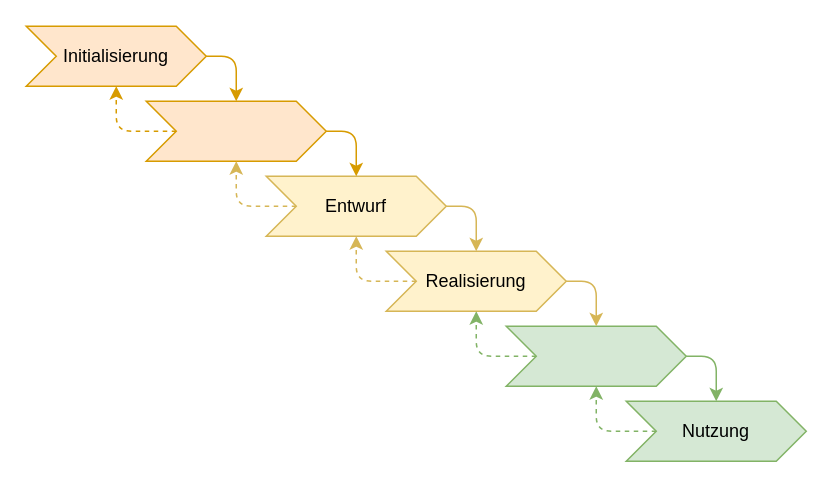
Some shapes in this 833 by 488 pixel diagram are drawn without their labels. Each missing label, with the box of its shape:
Analyse: (145, 100, 326, 161)
Einführung: (505, 325, 686, 386)
